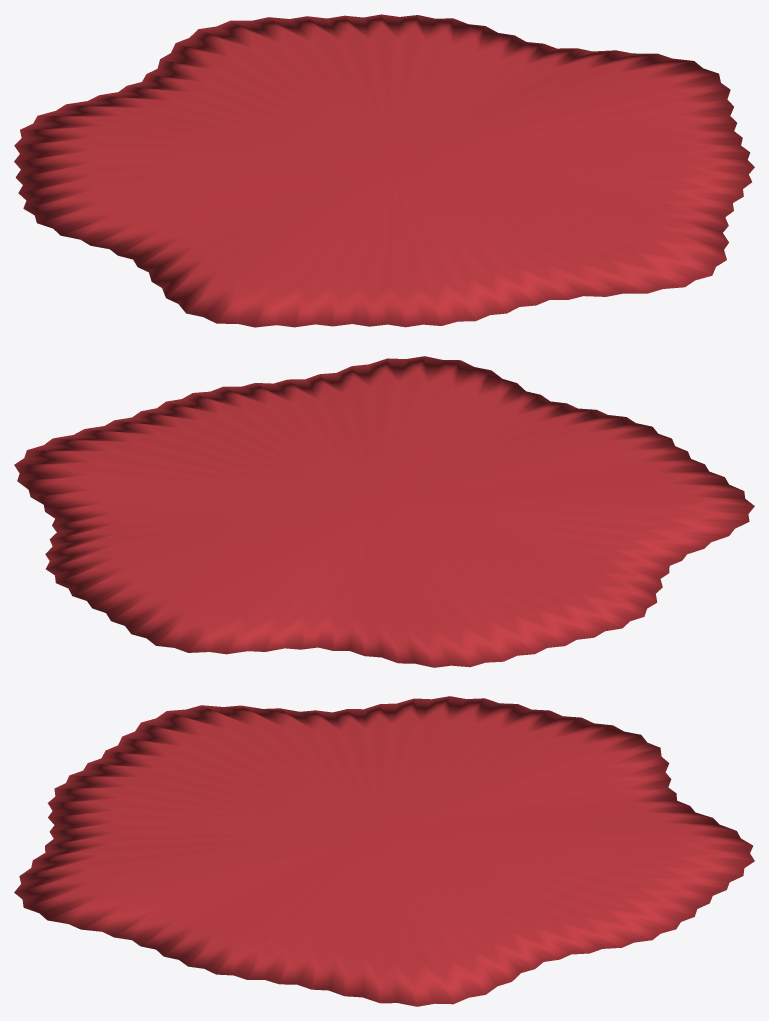
The model's file is ketchup.glb.
3 views of the same model, one above another, from view 1: azimuth 30°, elevation 25°; view 2: azimuth 150°, elevation 25°; view 3: azimuth 270°, elevation 25° (orthographic). The views are drawn at different scales.
Visible parts, largest first — view 1: ketchup; view 2: ketchup; view 3: ketchup.
Part boxes in pixels (<box>): ketchup: <box>14,14,754,327</box>; ketchup: <box>14,356,754,667</box>; ketchup: <box>14,696,754,1006</box>.
Bounding box in the file's own units: 0.8245 × 0.0314 × 0.831.
